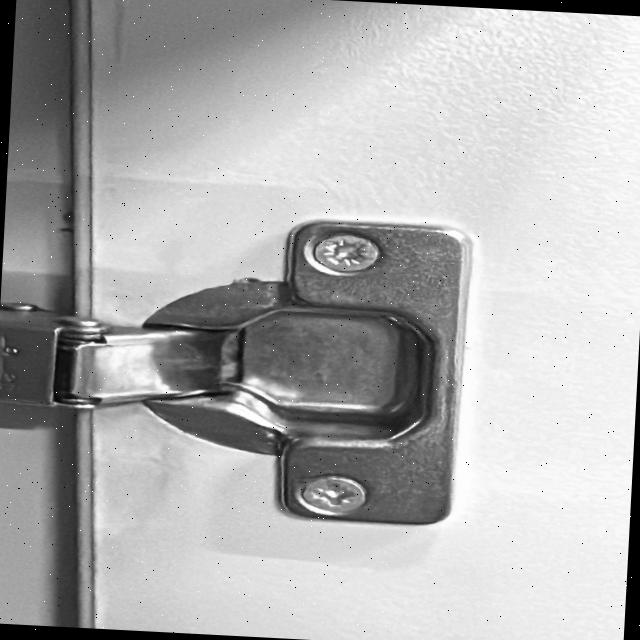Pozidriv: (256, 462, 393, 522), (304, 223, 398, 290)
